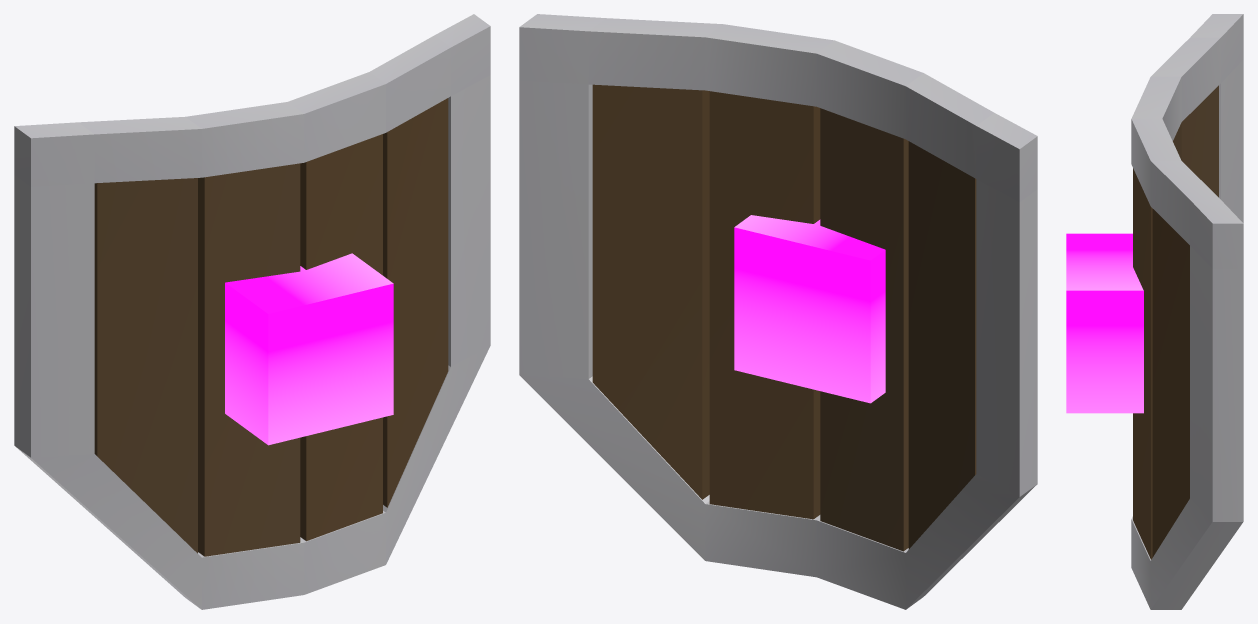
The model's file is Shield.fbx.
3 views of the same model, side by side, from view 1: azimuth 30°, elevation 25°; view 2: azimuth 150°, elevation 25°; view 3: azimuth 270°, elevation 25° (orthographic). The views are drawn at different scales.
Visible parts, largest first — view 1: Доски, Рама, Светящийся кубик; view 2: Доски, Рама, Светящийся кубик; view 3: Рама, Доски, Светящийся кубик.
Part boxes in pixels (bbox=[...]): Доски: bbox=[94, 98, 448, 556]; Рама: bbox=[14, 14, 490, 609]; Светящийся кубик: bbox=[225, 253, 393, 445]; Доски: bbox=[592, 84, 976, 551]; Рама: bbox=[519, 14, 1037, 609]; Светящийся кубик: bbox=[734, 215, 885, 403]; Рама: bbox=[1131, 14, 1243, 609]; Доски: bbox=[1133, 85, 1218, 559]; Светящийся кубик: bbox=[1066, 233, 1143, 413].
Bounding box in the file's own units: 0.7331 × 0.7331 × 0.2618.
